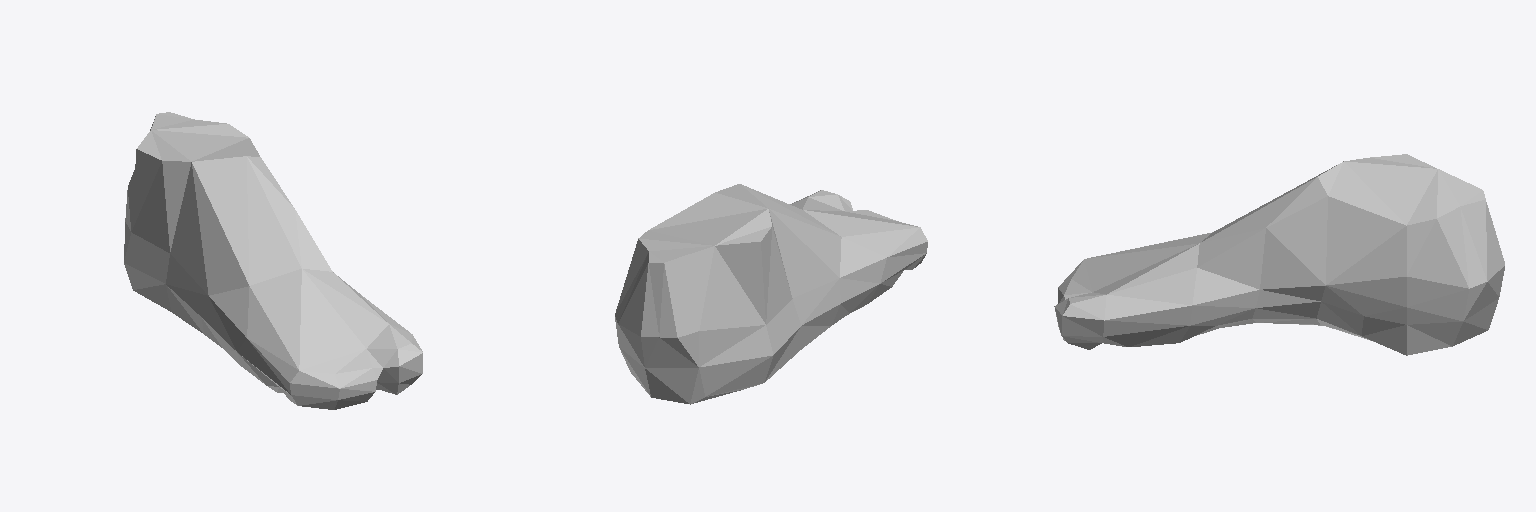
Rendered from rightfoot.obj.
The picture shows the model from 3 angles: view 1: azimuth 30°, elevation 25°; view 2: azimuth 150°, elevation 25°; view 3: azimuth 270°, elevation 25°; orthographic projection.
Visible parts, largest first — view 1: cube1_cut2; view 2: cube1_cut2; view 3: cube1_cut2.
Part boxes in pixels (left/top/right/bottom): cube1_cut2: left=124, top=112, right=422, bottom=409; cube1_cut2: left=615, top=184, right=927, bottom=404; cube1_cut2: left=1054, top=154, right=1504, bottom=355.
Bounding box in the file's own units: 0.4672 × 0.5437 × 1.33.